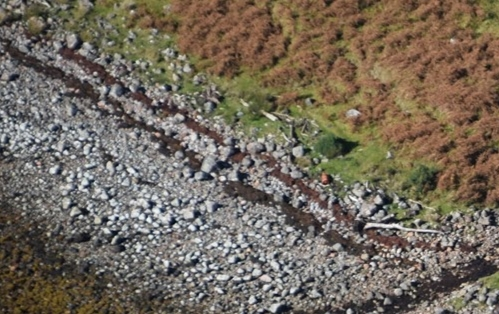straight_bar: (364, 219, 441, 234)
white_in_green: (305, 160, 343, 194)
